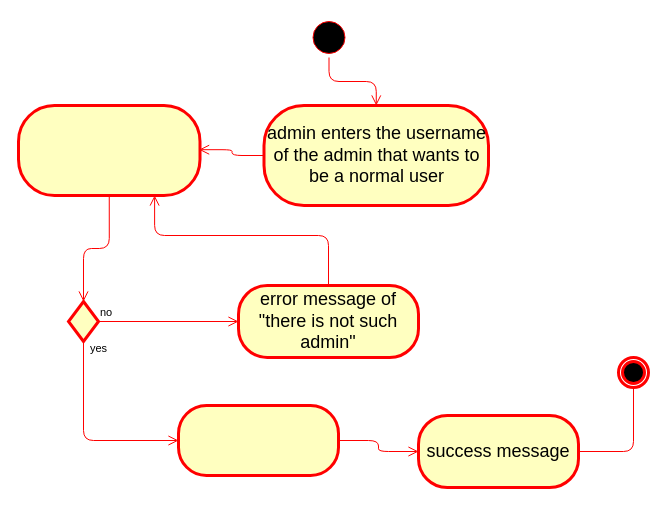
This 667x506 diagram has some shape labels left out. The centre of each missing label's shape, as x and y in pixels:
system checks this admin already exists: the point at 108,150
the admin is a normal user now: the point at 258,440
